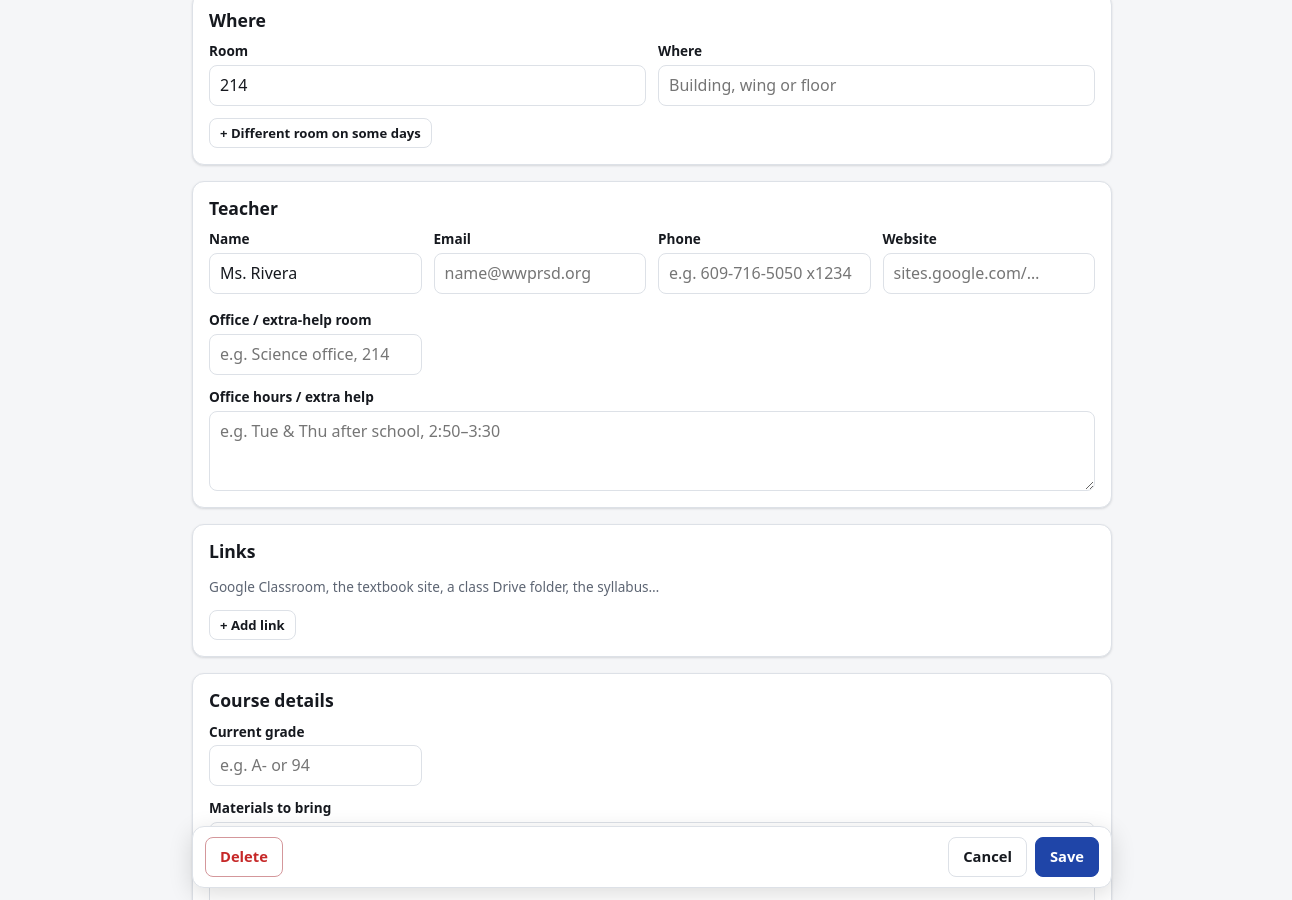
ClassEditPage: unsaved changes › leaves without asking after saving
(page scrolled)
Type "Tue after school" into the text box labelled "Office hours / extra help" at (652, 451), box [209,411,1095,491]
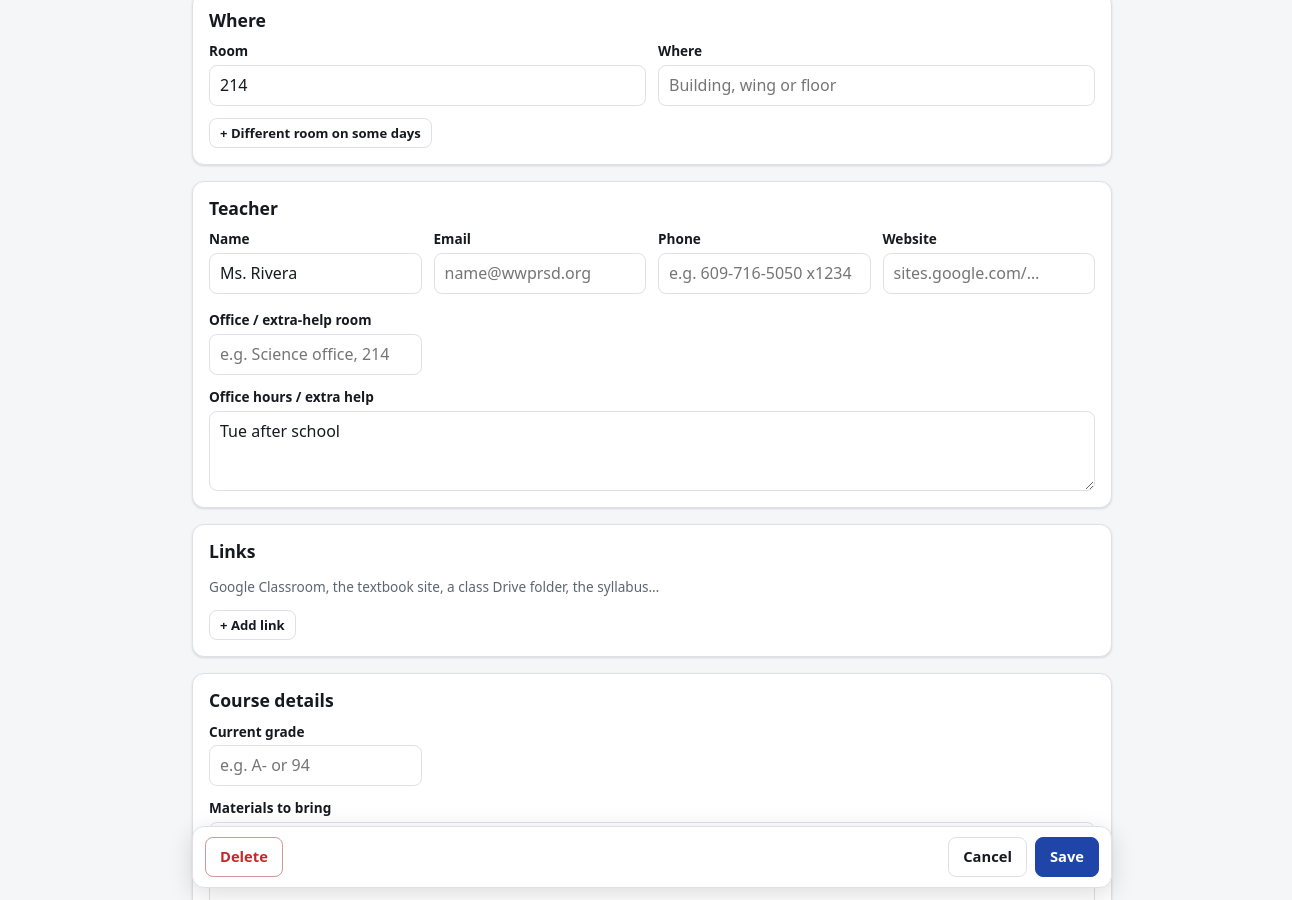
Click the button "Save" at (1067, 857), box [1035,838,1099,877]
(page scrolled)
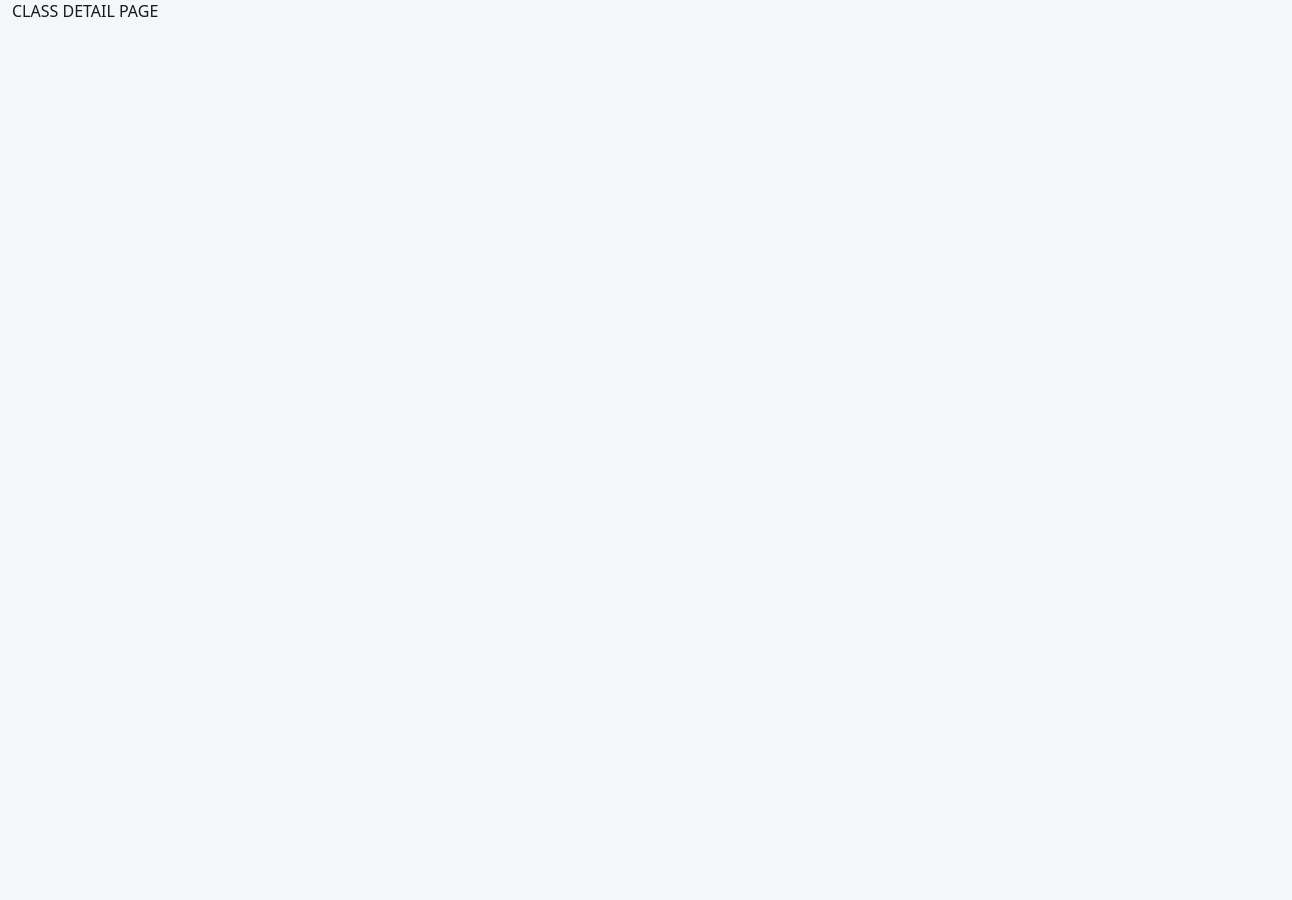
expect the heading "Where" is gone: met
